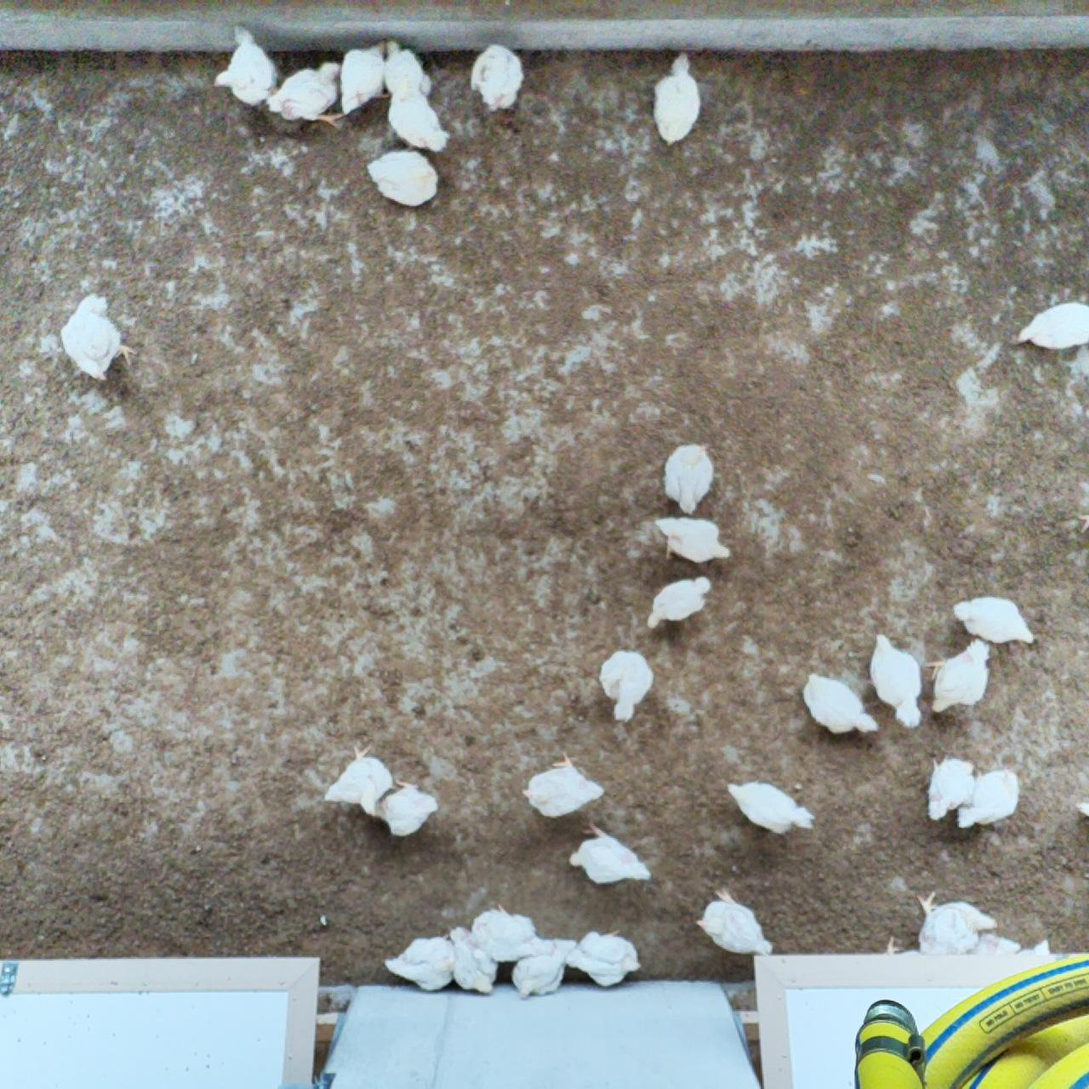chicken: (58, 291, 140, 383), (519, 750, 607, 821), (692, 885, 775, 960), (914, 887, 999, 957), (867, 630, 924, 733), (321, 740, 395, 819), (212, 24, 279, 110), (569, 819, 653, 887), (650, 50, 707, 150), (266, 60, 346, 131), (724, 776, 816, 837), (924, 637, 993, 716), (385, 71, 451, 152), (799, 670, 880, 736), (950, 593, 1039, 648), (565, 928, 643, 990), (468, 903, 542, 967), (383, 930, 458, 992), (365, 151, 442, 210), (596, 647, 655, 723), (954, 766, 1023, 830), (661, 440, 716, 516), (469, 40, 526, 113), (338, 40, 392, 117), (509, 938, 576, 1000), (1013, 300, 1089, 352), (645, 573, 713, 631), (448, 924, 500, 998), (925, 752, 978, 824), (654, 516, 732, 564), (379, 780, 440, 839), (383, 38, 435, 100)
